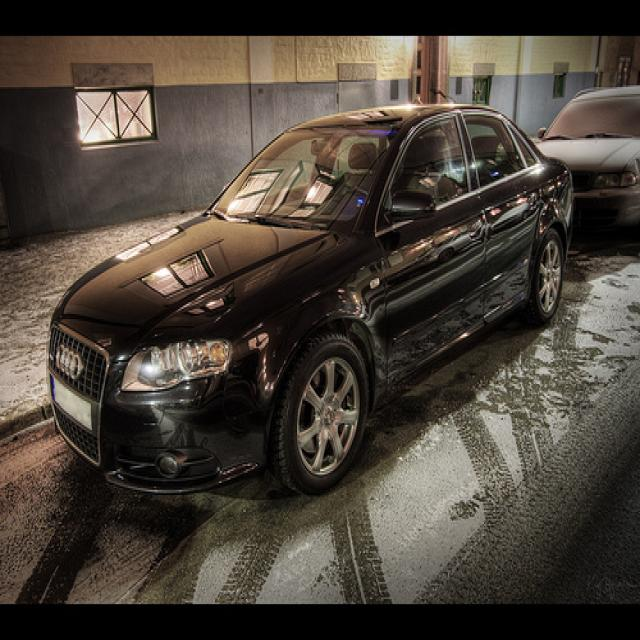Car: (44, 80, 578, 503)
